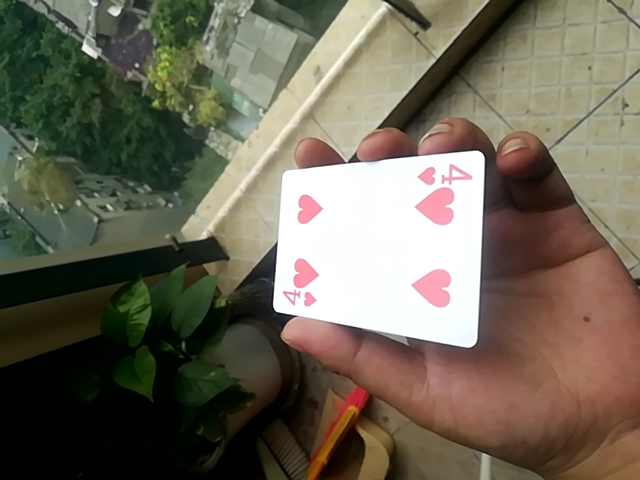hx 4: (269, 148, 487, 349)
